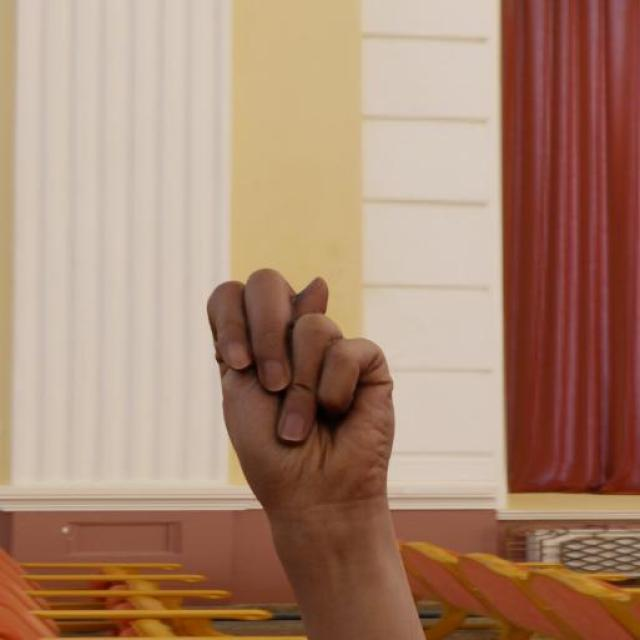N: (199, 264, 399, 512)
